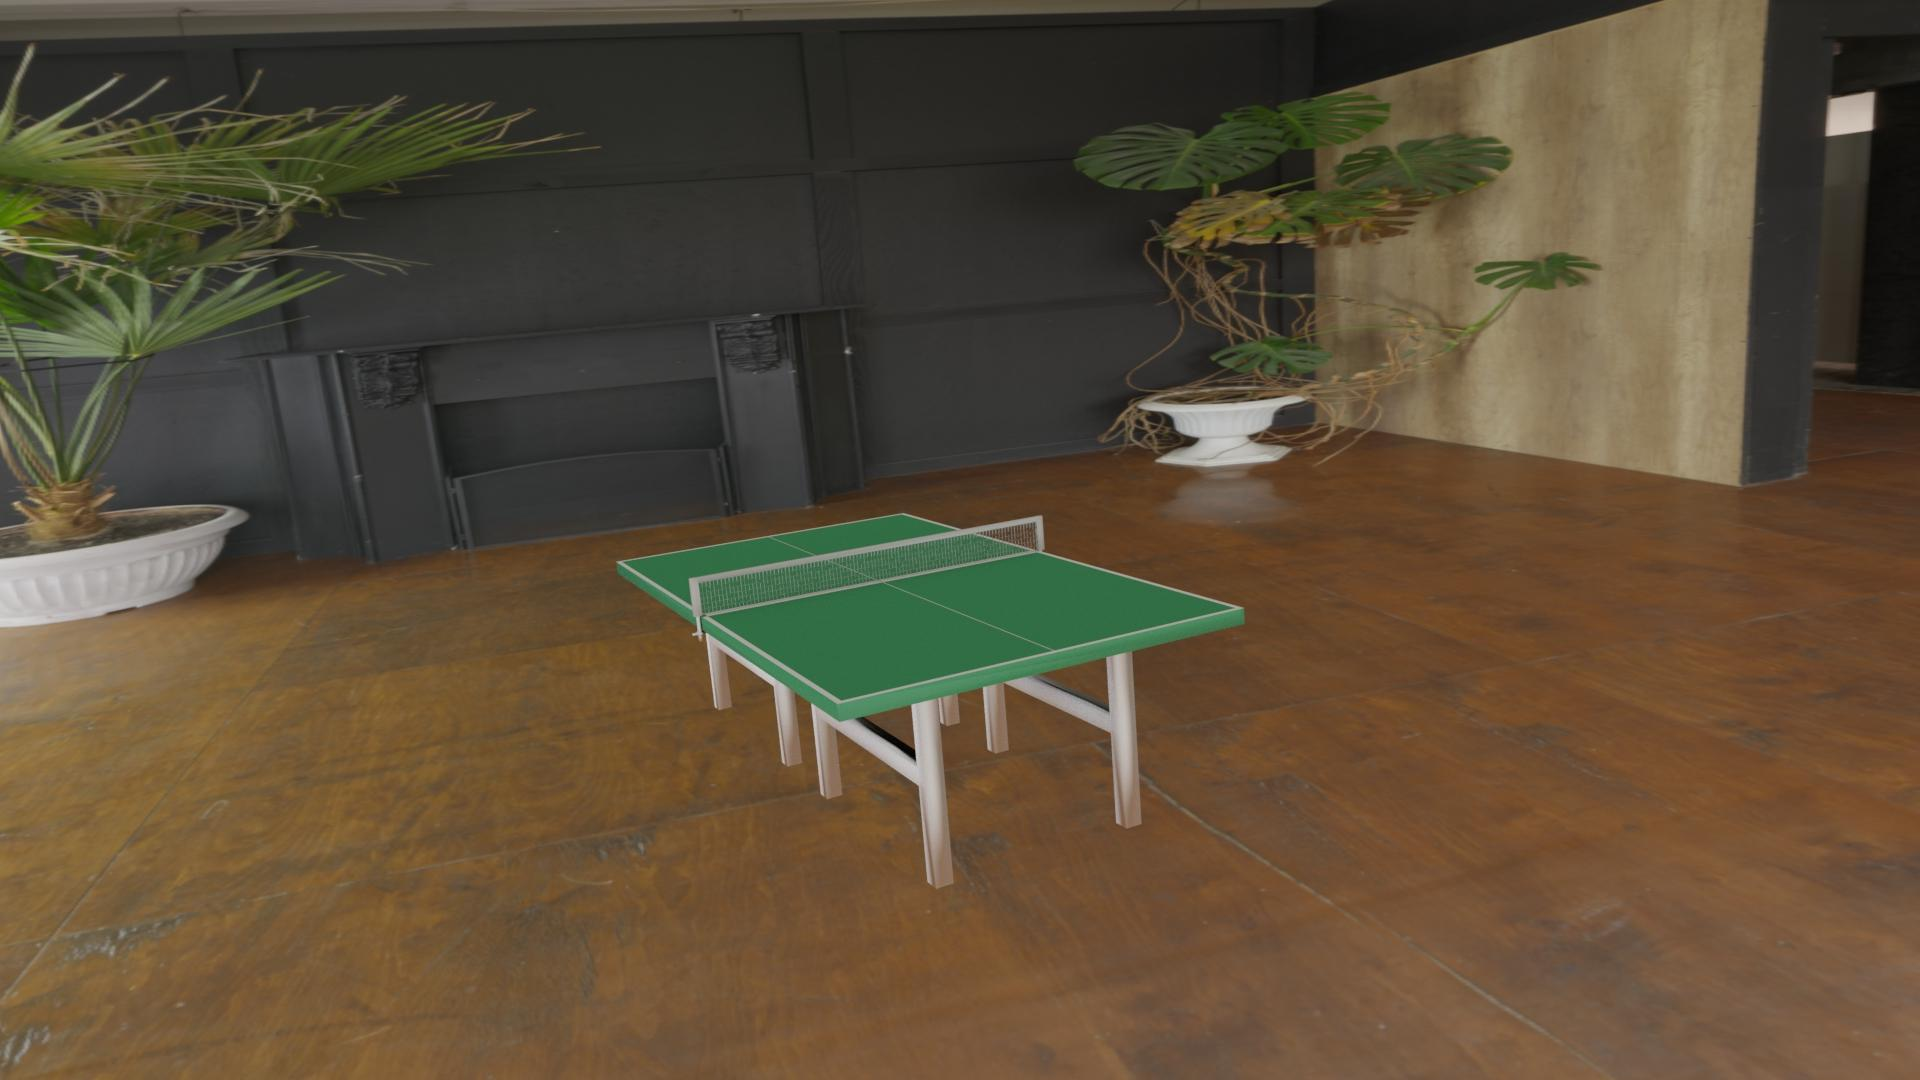table: (621, 514, 1236, 700)
